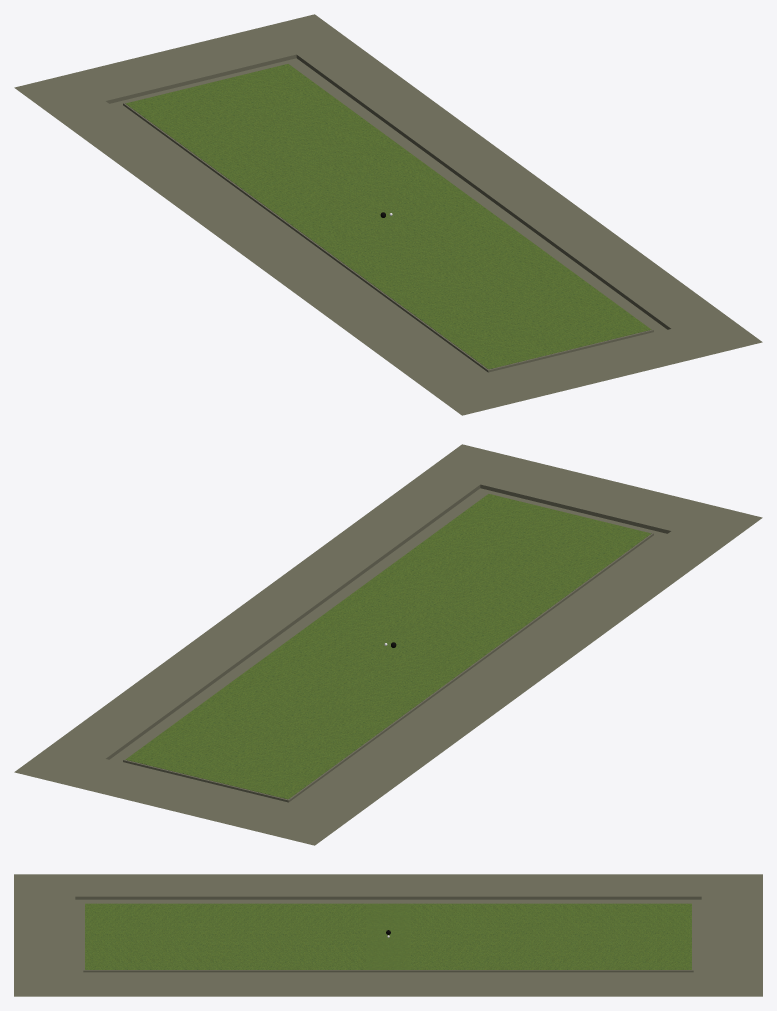
3 views of the same model, one above another, from view 1: azimuth 30°, elevation 25°; view 2: azimuth 150°, elevation 25°; view 3: azimuth 270°, elevation 25° (orthographic). The views are drawn at different scales.
Parts seen in each view (by area): view 1: lawn base, lawn; view 2: lawn base, lawn; view 3: lawn base, lawn.
Boxes of the visible parts, <box> form: lawn base: <box>14,14,762,415</box>; lawn: <box>125,64,651,369</box>; lawn base: <box>14,444,762,845</box>; lawn: <box>125,494,651,799</box>; lawn base: <box>14,874,762,996</box>; lawn: <box>85,903,691,969</box>.
Bounding box in the file's own units: 11.74 × 0.2777 × 30.3.
Materials: 4 (1 with a texture image).
